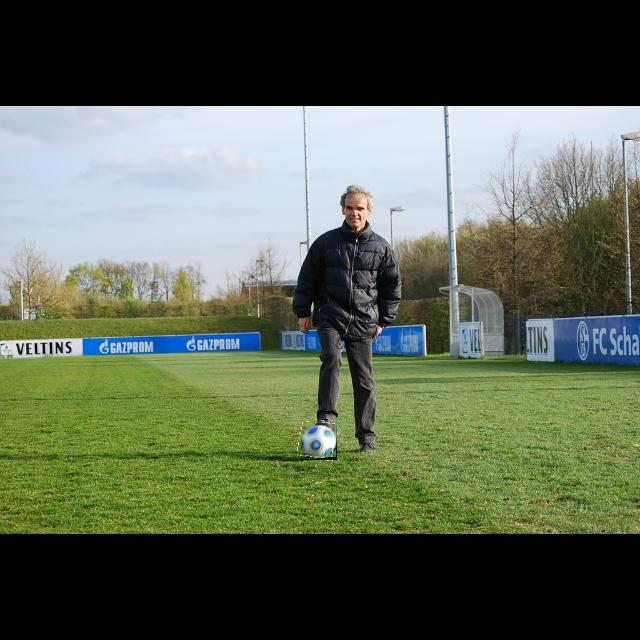Football: (299, 422, 337, 460)
